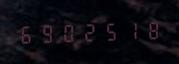eight: (137, 18, 156, 41)
five: (97, 19, 116, 43)
nine: (37, 21, 56, 45)
one: (117, 19, 136, 42)
six: (17, 22, 36, 45)
two: (77, 20, 96, 43)
zero: (57, 21, 76, 44)
